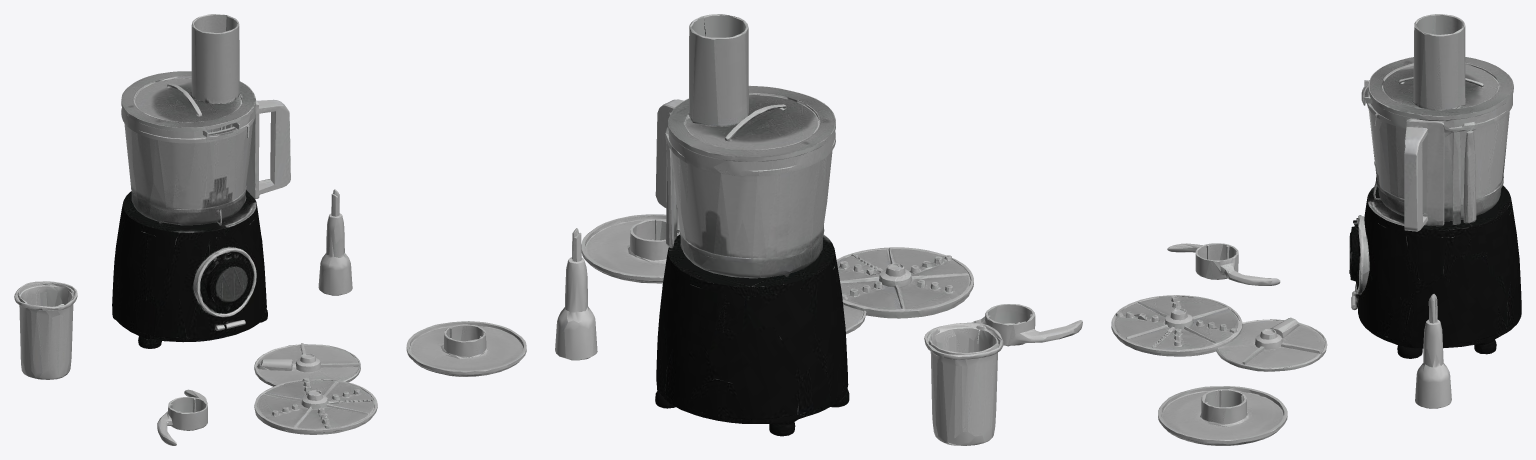
File: bosch-food-processors-mcm3101b.glb
3 renders of one model, left to right at view 1: azimuth 30°, elevation 25°; view 2: azimuth 150°, elevation 25°; view 3: azimuth 270°, elevation 25°, orthographic. The views are drawn at different scales.
Size of the model in its own units: 1.89 by 1.28 by 1.5.
1 material, 1 textured.
